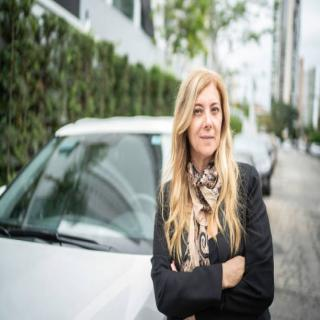Normal_vehicle: (0, 112, 155, 318), (234, 131, 276, 180)
